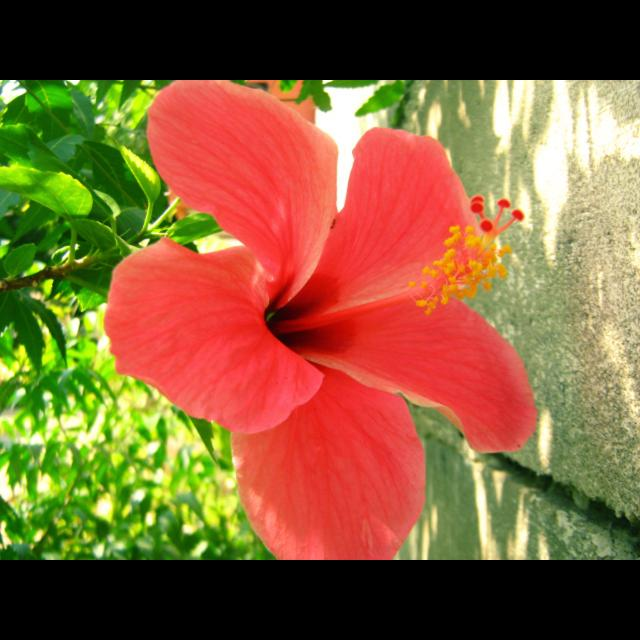Flower: (100, 104, 528, 518)
